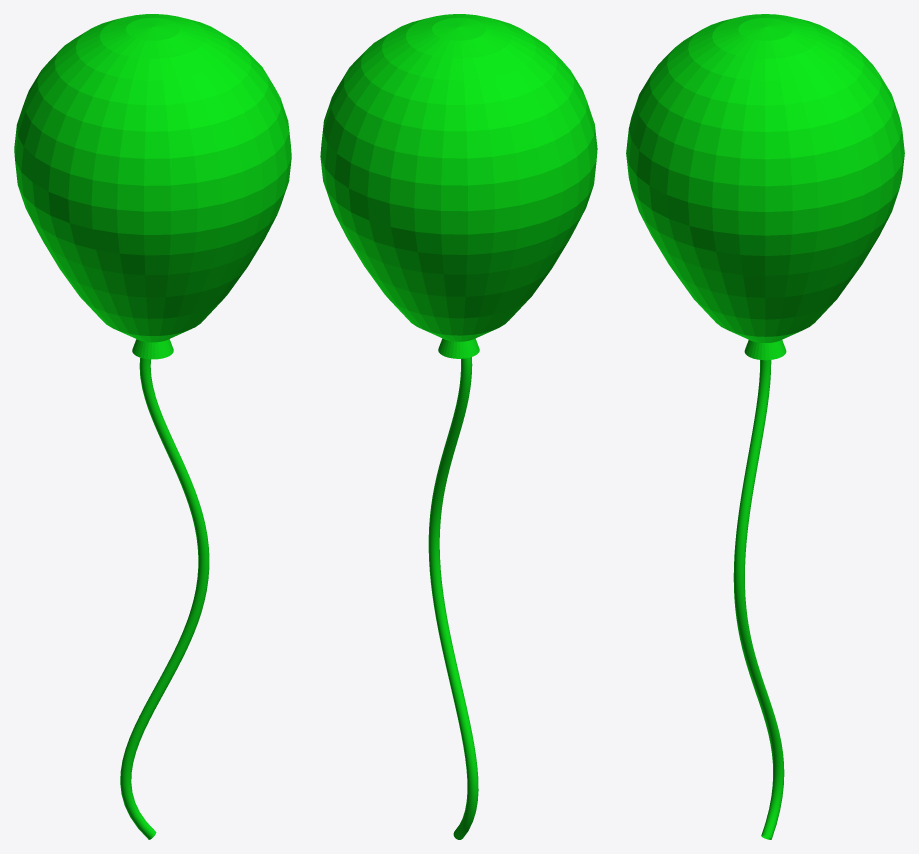
Rendered from BalloonModelGreen.gltf.
3 renders of one model, left to right at view 1: azimuth 30°, elevation 25°; view 2: azimuth 150°, elevation 25°; view 3: azimuth 270°, elevation 25°, orthographic.
Visible parts, largest first — view 1: BalloonObject; view 2: BalloonObject; view 3: BalloonObject.
Boxes of the visible parts, <box> form: BalloonObject: <box>14,14,291,839</box>; BalloonObject: <box>320,14,597,839</box>; BalloonObject: <box>626,14,904,839</box>.
Size of the model in its own units: 2 by 6.45 by 2.
